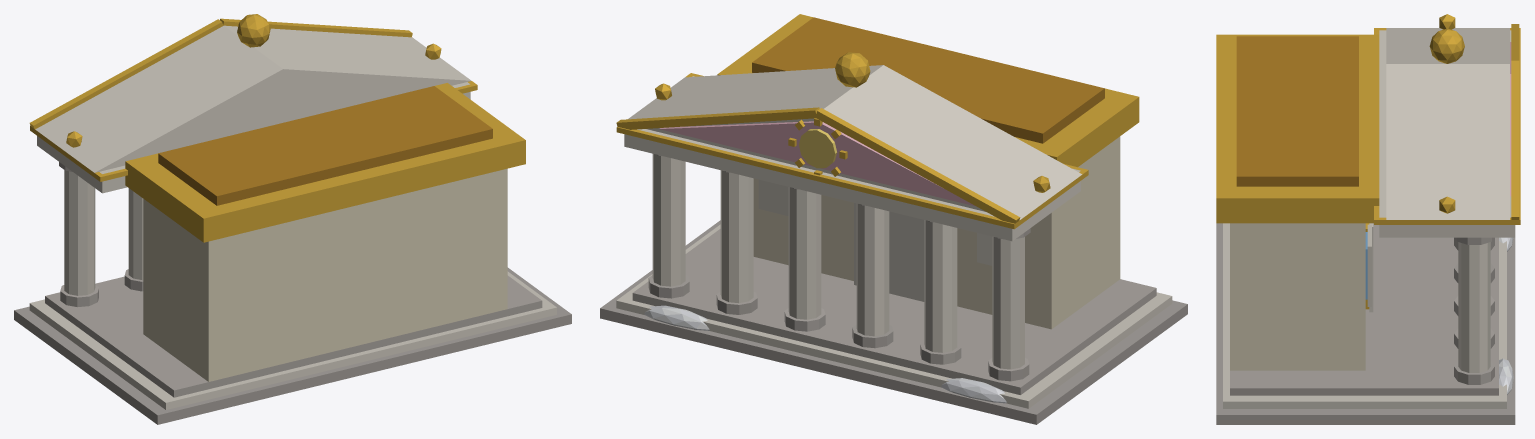
File: Decor_CloudTemple_SkyTemple.fbx
3 renders of one model, left to right at view 1: azimuth 30°, elevation 25°; view 2: azimuth 150°, elevation 25°; view 3: azimuth 270°, elevation 25°, orthographic. The views are drawn at different scales.
Parts seen in each view (by area): view 1: SkyTemple_Body; view 2: SkyTemple_Body; view 3: SkyTemple_Body.
Part boxes in pixels (x1,y1,x2,y2): SkyTemple_Body: (14,14,571,424); SkyTemple_Body: (600,14,1187,424); SkyTemple_Body: (1216,14,1520,424).
Size of the model in its own units: 36 by 23.1 by 22.
